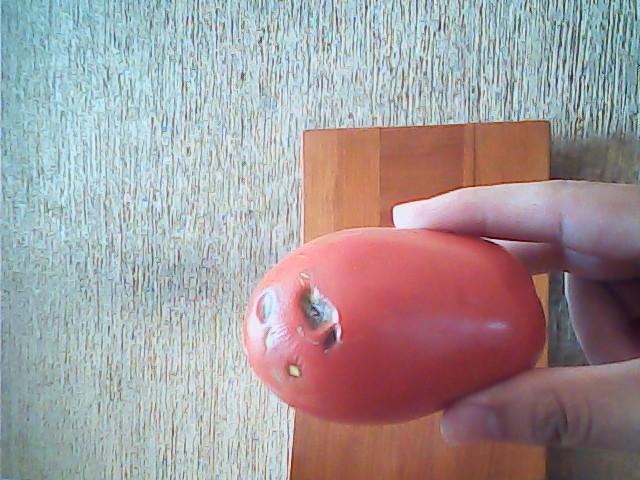defectuoso: (239, 228, 547, 425)
